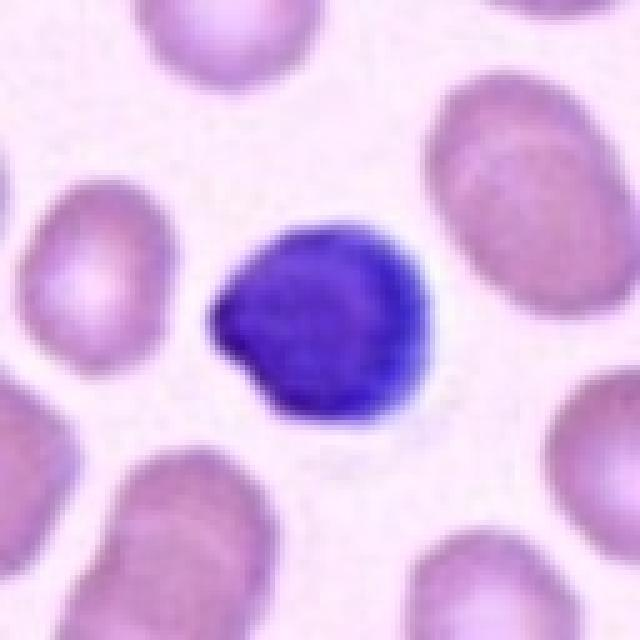lympho: (198, 216, 458, 434)
